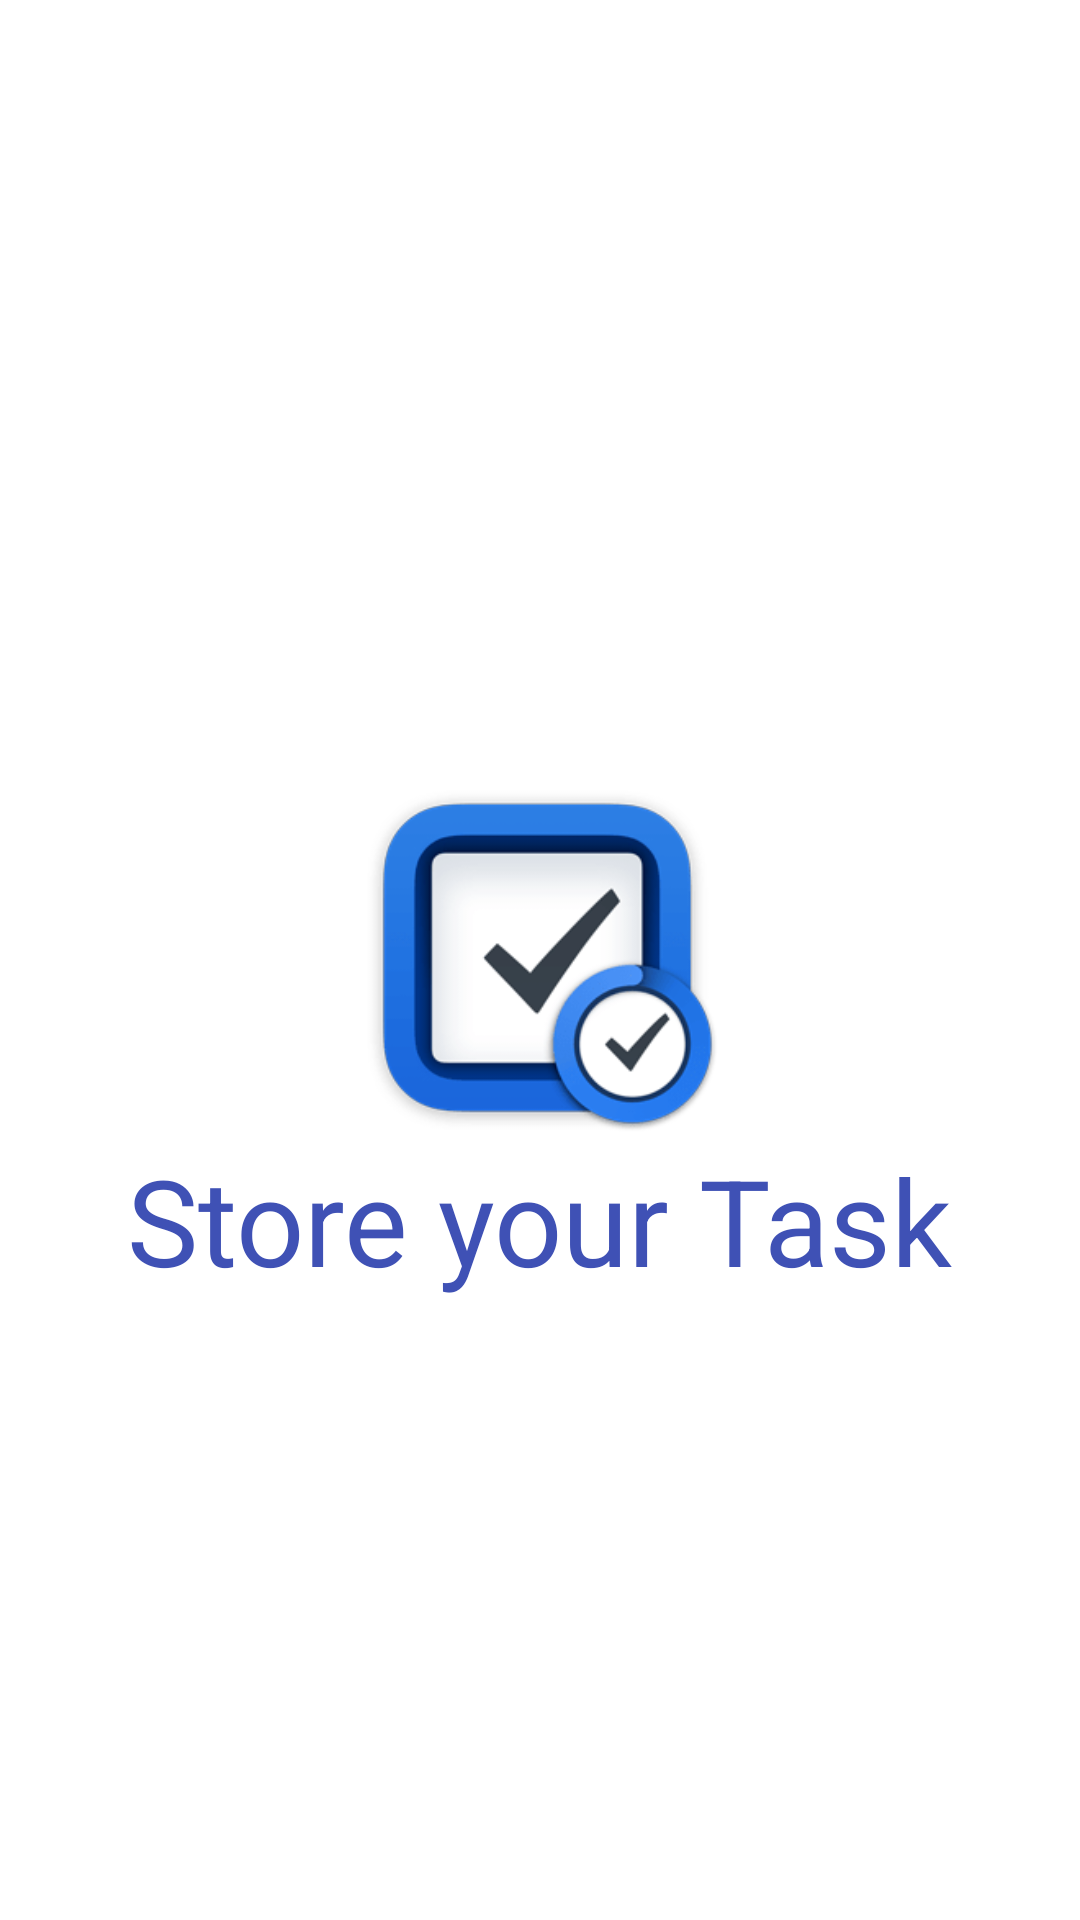

Locate icon controls on the screen. Image size 1080*1920, boxes as region(x1, y1, x2, y2).
todo: region(380, 802, 713, 1128)
